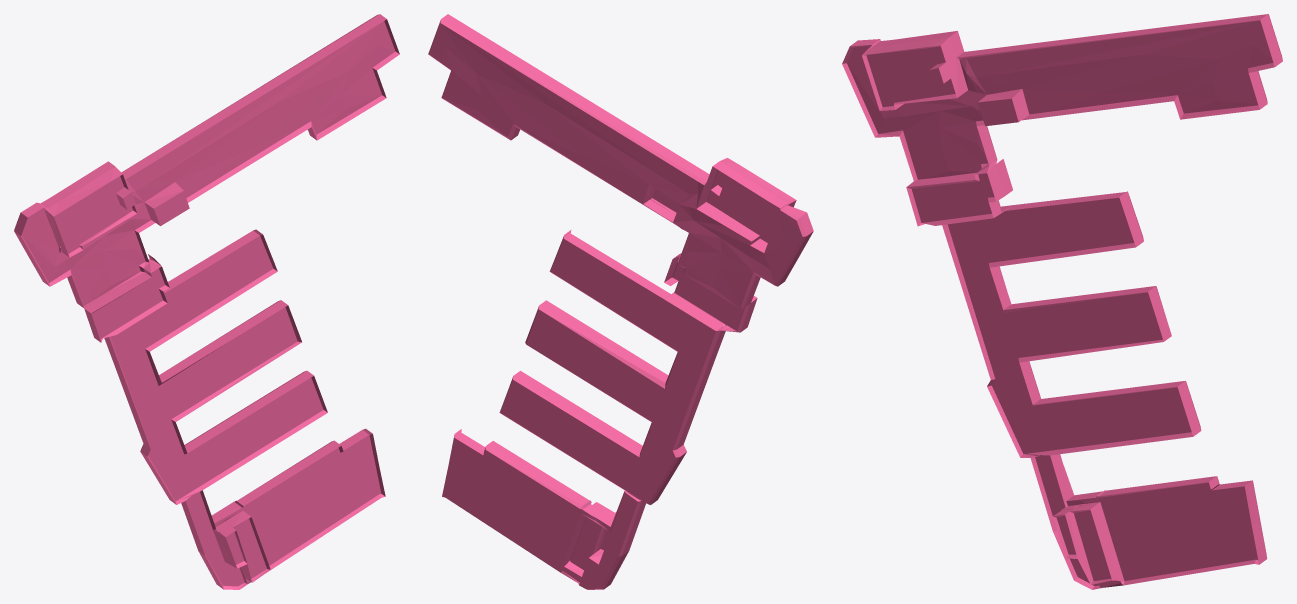
Rendered from azotea3d.obj.
3 renders of one model, left to right at view 1: azimuth 30°, elevation 25°; view 2: azimuth 150°, elevation 25°; view 3: azimuth 330°, elevation 25°, orthographic. The views are drawn at different scales.
Visible parts, largest first — view 1: obj_0; view 2: obj_0; view 3: obj_0.
Part boxes in pixels (<box>): obj_0: <box>14,14,399,589</box>; obj_0: <box>428,14,813,589</box>; obj_0: <box>842,14,1282,589</box>.
Bounding box in the file's own units: 93 × 126 × 9.4.
